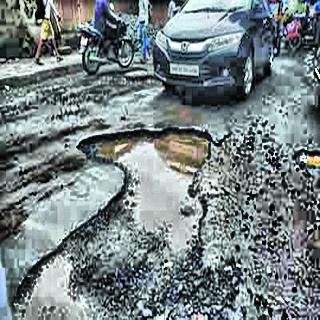alligator-crack: (73, 255, 276, 318)
pothole: (75, 123, 235, 251), (10, 248, 70, 318), (96, 71, 152, 92), (292, 144, 320, 174)
